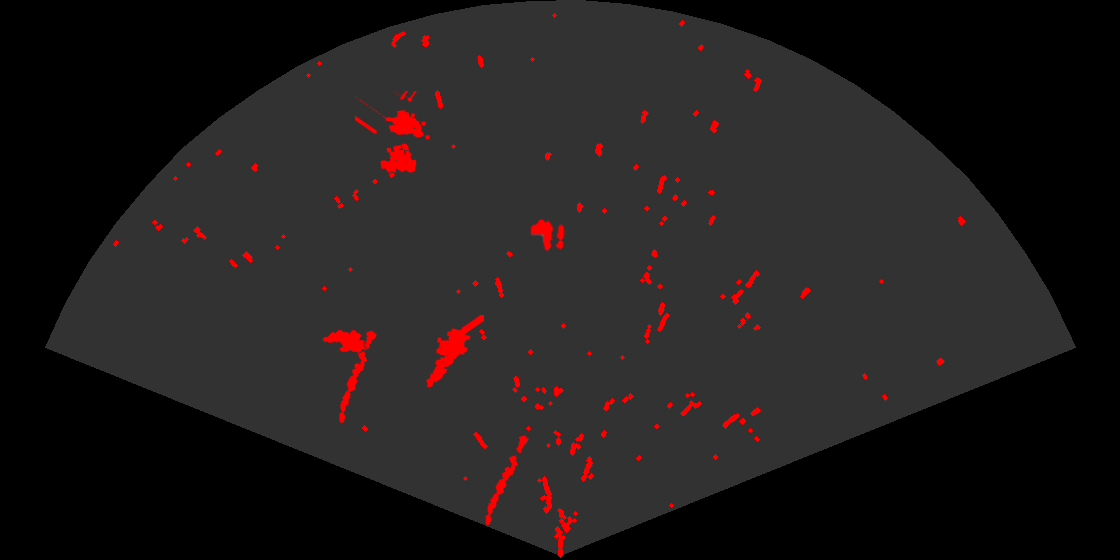AUV: (321, 329, 370, 355)
ball: (529, 218, 566, 253)
cage: (355, 91, 432, 174)
chain: (484, 434, 530, 527), (337, 329, 378, 425)
frogman: (425, 315, 484, 389)
